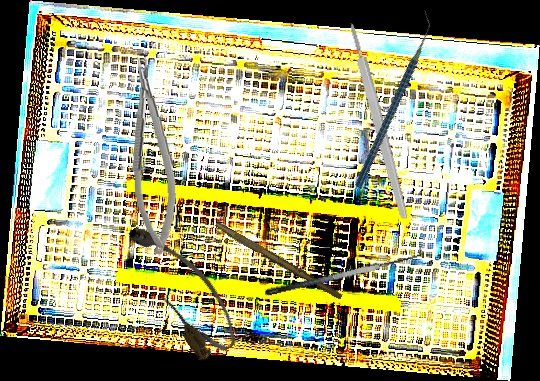Cannula: (119, 209, 247, 366)
Chopper: (305, 9, 480, 190)
Needle Holder: (126, 55, 180, 256)
Scalpel Handle: (346, 21, 411, 221), (212, 221, 345, 301)
Spatula Surgical: (261, 242, 427, 297)
